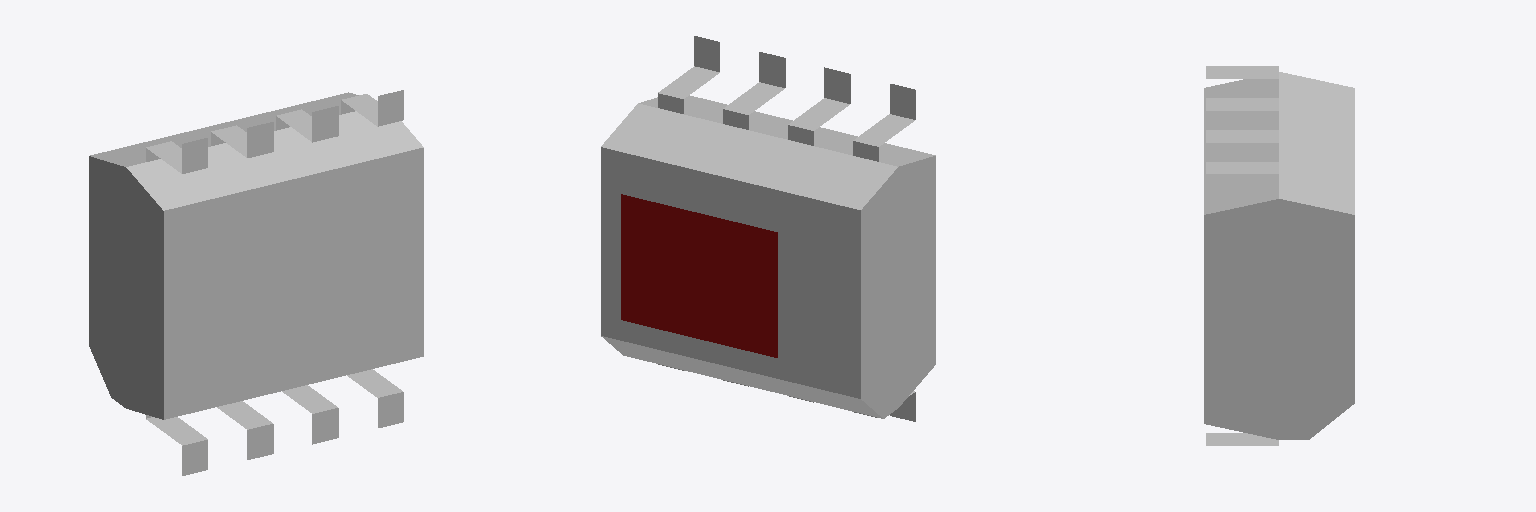
3 views of the same model, side by side, from view 1: azimuth 30°, elevation 25°; view 2: azimuth 150°, elevation 25°; view 3: azimuth 270°, elevation 25° (orthographic).
Parts seen in each view (by area): view 1: ShapeIndexedFaceSet_ShapeIndexedFaceSet.001, ShapeIndexedFaceSet.004_ShapeIndexedFaceSet.005, ShapeIndexedFaceSet.003_ShapeIndexedFaceSet.004, ShapeIndexedFaceSet.002_ShapeIndexedFaceSet.003, ShapeIndexedFaceSet.001_ShapeIndexedFaceSet.002, ShapeIndexedFaceSet.007_ShapeIndexedFaceSet.008, ShapeIndexedFaceSet.006_ShapeIndexedFaceSet.007, ShapeIndexedFaceSet.008_ShapeIndexedFaceSet.009, ShapeIndexedFaceSet.005_ShapeIndexedFaceSet.006; view 2: ShapeIndexedFaceSet_ShapeIndexedFaceSet.001, ShapeIndexedFaceSet.009_ShapeIndexedFaceSet, ShapeIndexedFaceSet.007_ShapeIndexedFaceSet.008, ShapeIndexedFaceSet.006_ShapeIndexedFaceSet.007, ShapeIndexedFaceSet.005_ShapeIndexedFaceSet.006, ShapeIndexedFaceSet.008_ShapeIndexedFaceSet.009; view 3: ShapeIndexedFaceSet_ShapeIndexedFaceSet.001, ShapeIndexedFaceSet.007_ShapeIndexedFaceSet.008, ShapeIndexedFaceSet.006_ShapeIndexedFaceSet.007, ShapeIndexedFaceSet.005_ShapeIndexedFaceSet.006, ShapeIndexedFaceSet.008_ShapeIndexedFaceSet.009, ShapeIndexedFaceSet.001_ShapeIndexedFaceSet.002.
Part boxes in pixels (left/top/right/bottom): ShapeIndexedFaceSet_ShapeIndexedFaceSet.001: left=89, top=92, right=423, bottom=419; ShapeIndexedFaceSet.004_ShapeIndexedFaceSet.005: left=146, top=415, right=207, bottom=475; ShapeIndexedFaceSet.003_ShapeIndexedFaceSet.004: left=217, top=401, right=273, bottom=459; ShapeIndexedFaceSet.002_ShapeIndexedFaceSet.003: left=282, top=385, right=338, bottom=444; ShapeIndexedFaceSet.001_ShapeIndexedFaceSet.002: left=347, top=369, right=403, bottom=427; ShapeIndexedFaceSet.007_ShapeIndexedFaceSet.008: left=276, top=106, right=338, bottom=142; ShapeIndexedFaceSet.006_ShapeIndexedFaceSet.007: left=211, top=122, right=273, bottom=157; ShapeIndexedFaceSet.008_ShapeIndexedFaceSet.009: left=341, top=90, right=403, bottom=126; ShapeIndexedFaceSet.005_ShapeIndexedFaceSet.006: left=146, top=138, right=207, bottom=173; ShapeIndexedFaceSet_ShapeIndexedFaceSet.001: left=601, top=95, right=935, bottom=418; ShapeIndexedFaceSet.009_ShapeIndexedFaceSet: left=621, top=194, right=777, bottom=357; ShapeIndexedFaceSet.007_ShapeIndexedFaceSet.008: left=723, top=52, right=785, bottom=129; ShapeIndexedFaceSet.006_ShapeIndexedFaceSet.007: left=788, top=67, right=850, bottom=145; ShapeIndexedFaceSet.005_ShapeIndexedFaceSet.006: left=853, top=84, right=915, bottom=161; ShapeIndexedFaceSet.008_ShapeIndexedFaceSet.009: left=658, top=36, right=719, bottom=113; ShapeIndexedFaceSet_ShapeIndexedFaceSet.001: left=1204, top=72, right=1354, bottom=439; ShapeIndexedFaceSet.007_ShapeIndexedFaceSet.008: left=1206, top=130, right=1278, bottom=142; ShapeIndexedFaceSet.006_ShapeIndexedFaceSet.007: left=1206, top=98, right=1278, bottom=110; ShapeIndexedFaceSet.005_ShapeIndexedFaceSet.006: left=1206, top=66, right=1278, bottom=78; ShapeIndexedFaceSet.008_ShapeIndexedFaceSet.009: left=1206, top=162, right=1278, bottom=173; ShapeIndexedFaceSet.001_ShapeIndexedFaceSet.002: left=1206, top=433, right=1278, bottom=445.
Bounding box in the file's own units: 5.08 × 6.2 × 2.56.